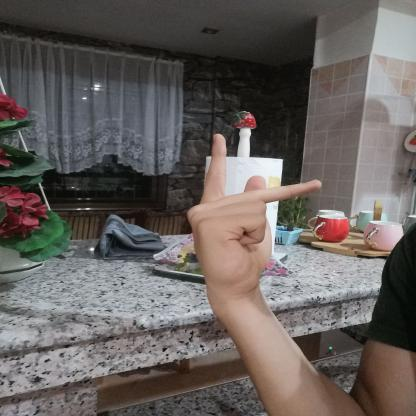DHAA: (173, 124, 336, 306)
